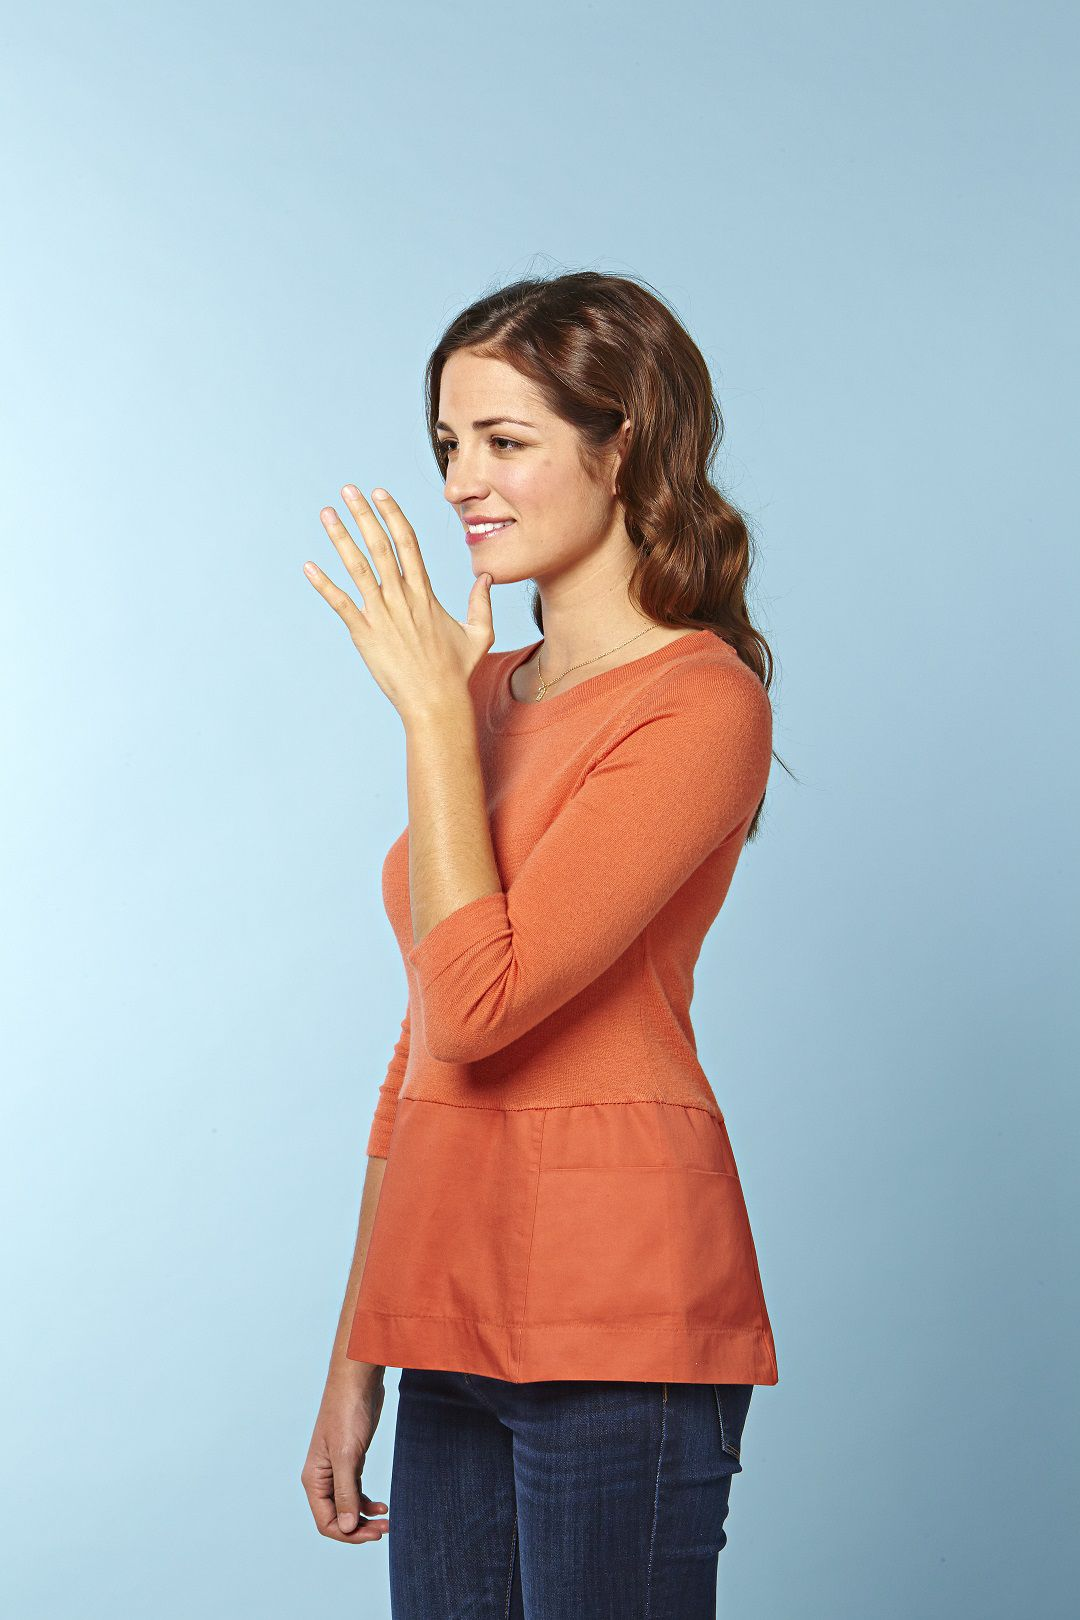ThankYou: (299, 479, 495, 714)
